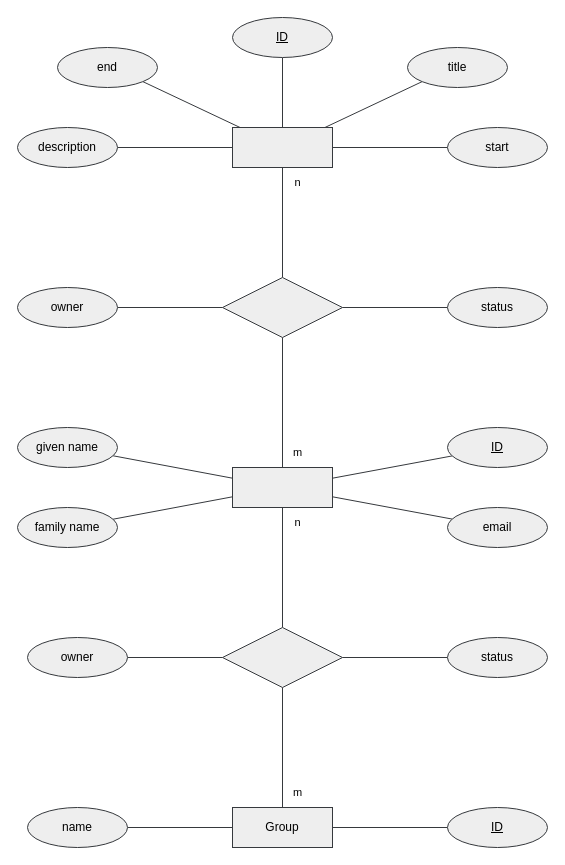
Image size: 565x865. Some labels were removed from this diagram. Here are the shapes that lost their labels. From the top down, the centre of each, then its label:
At [282,147]: "Appointment".
At [282,307]: "has".
At [282,487]: "User".
At [282,657]: "is member".
